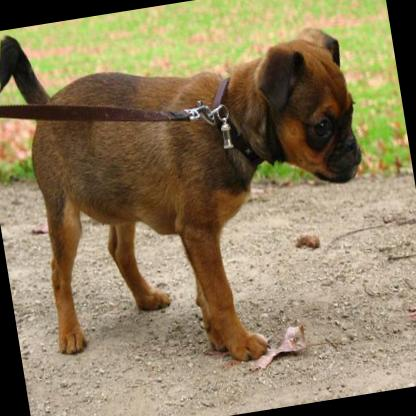Brabancon_griffon: (0, 0, 393, 394)
